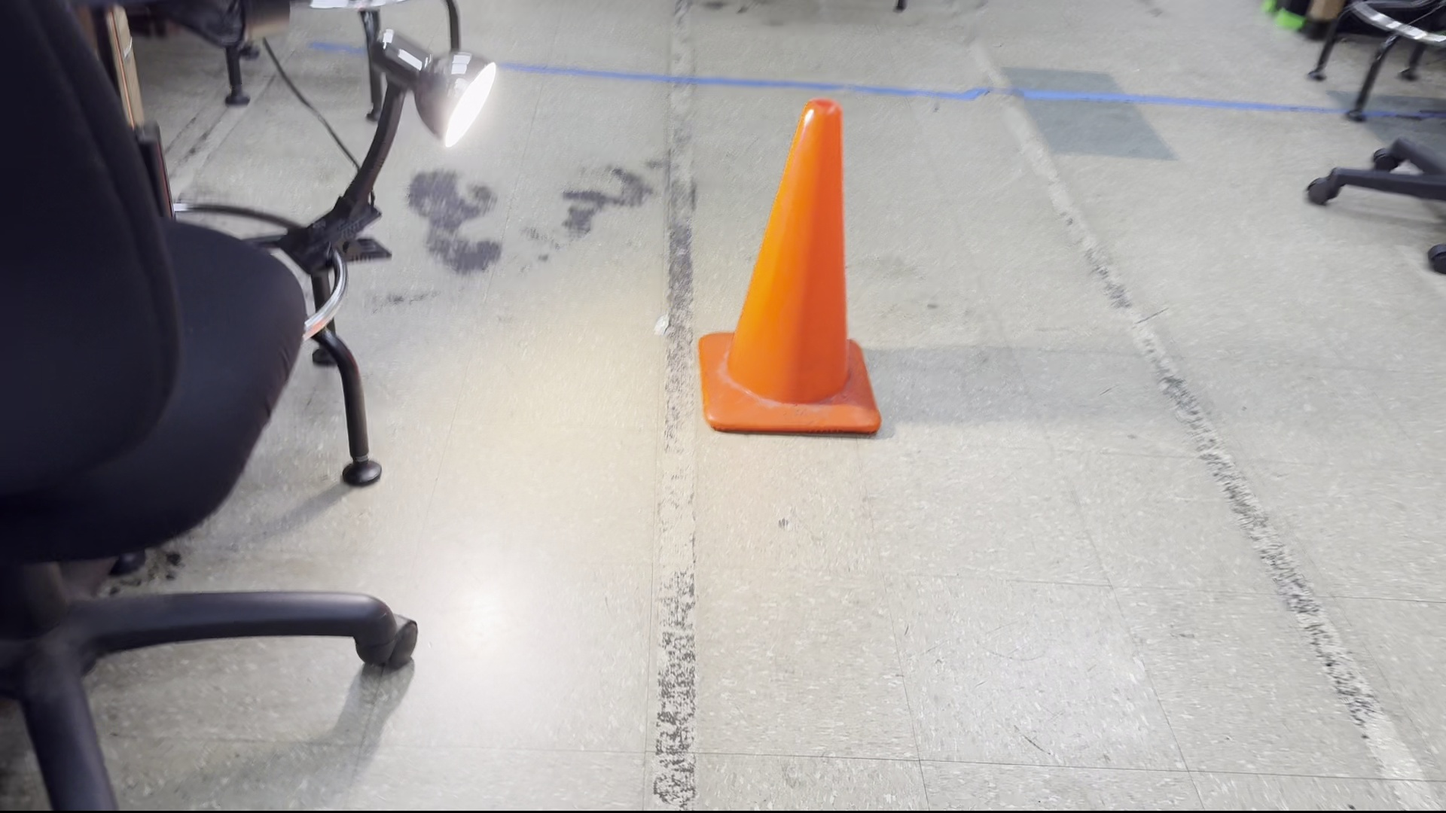traffic_cone: (697, 97, 882, 436)
